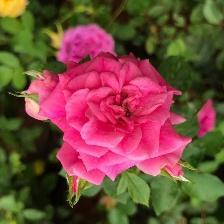rose: (39, 52, 191, 179)
